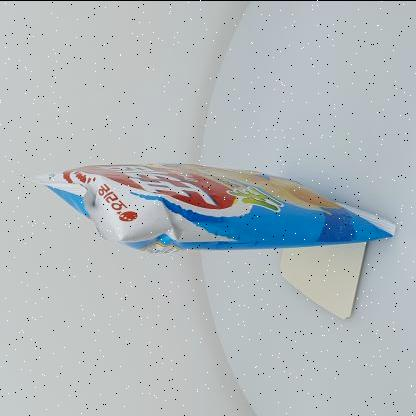Others: (9, 121, 414, 280)
